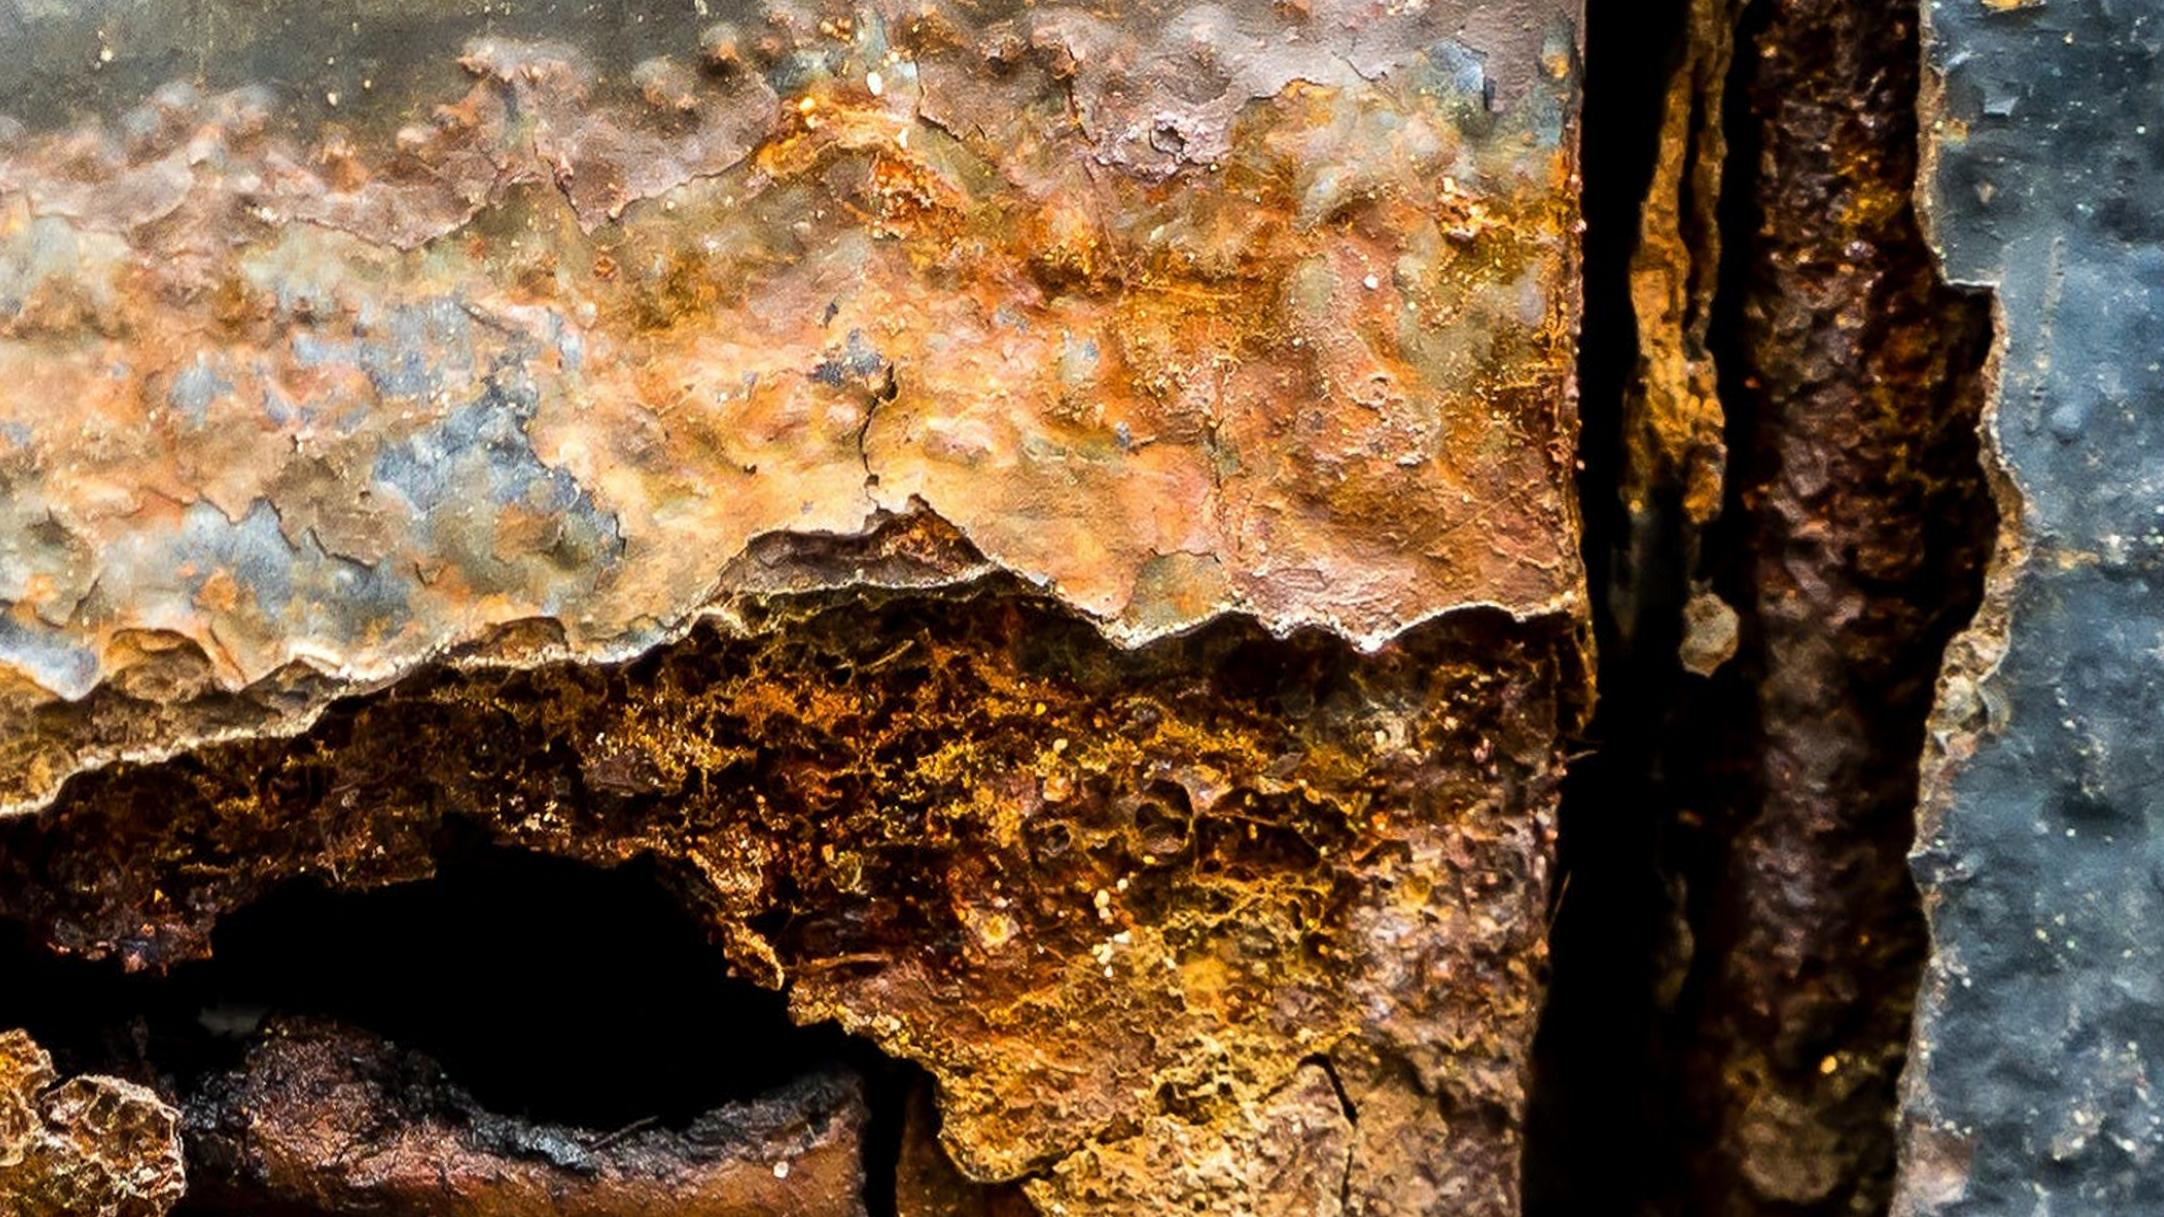rust: (599, 92, 1519, 1132), (1648, 22, 1901, 1205)
